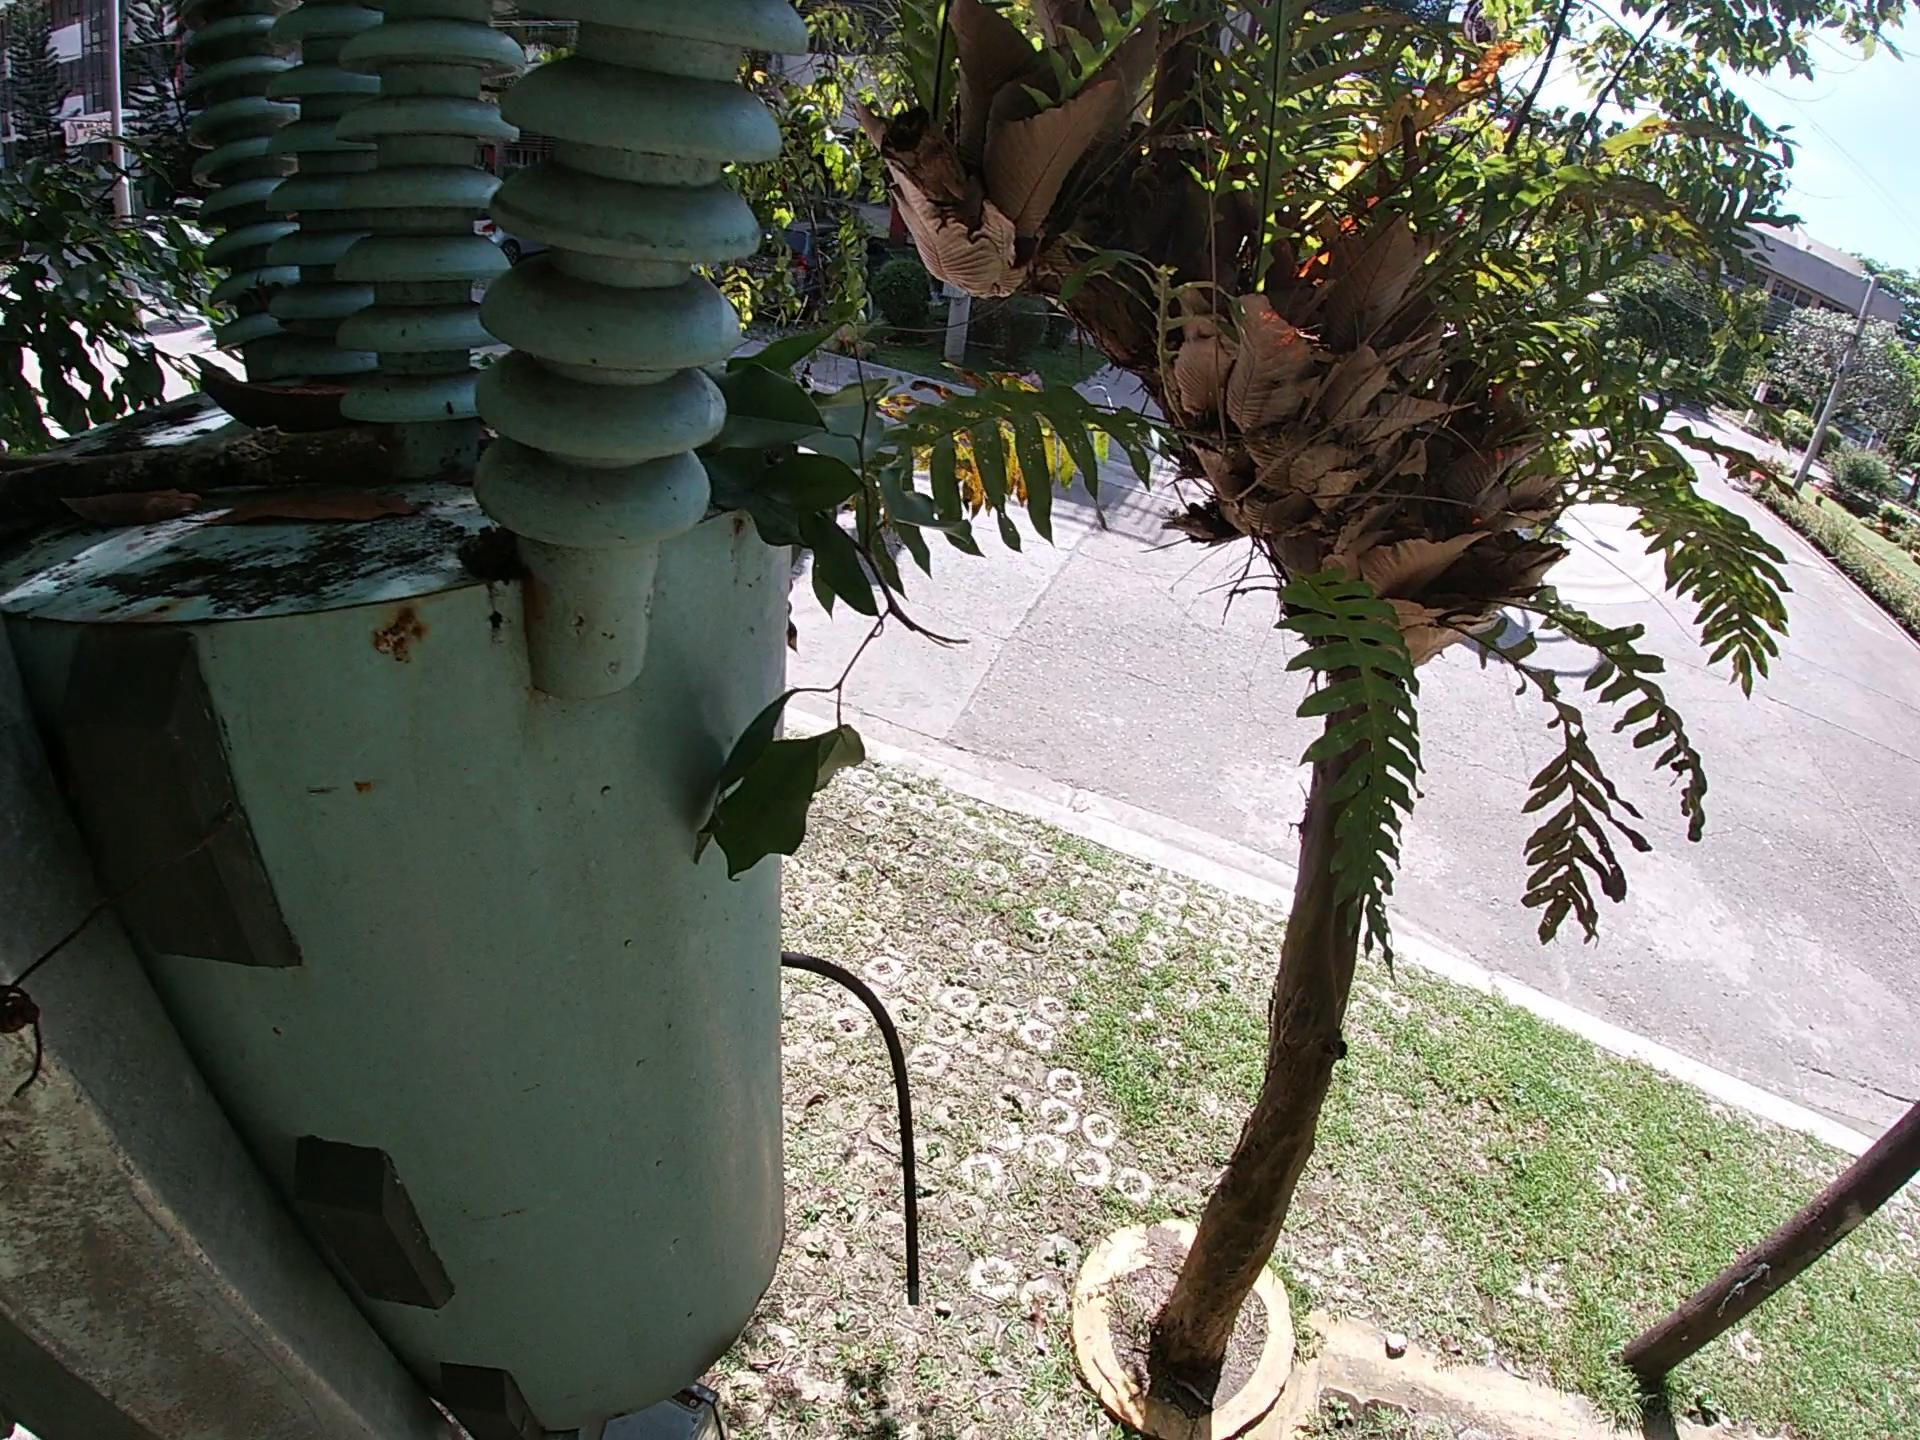branch with leaves: (686, 298, 945, 927)
leaf: (200, 496, 432, 532), (14, 486, 192, 520)
mahogany fruit: (166, 346, 358, 430)
tree branch: (2, 446, 395, 475)
